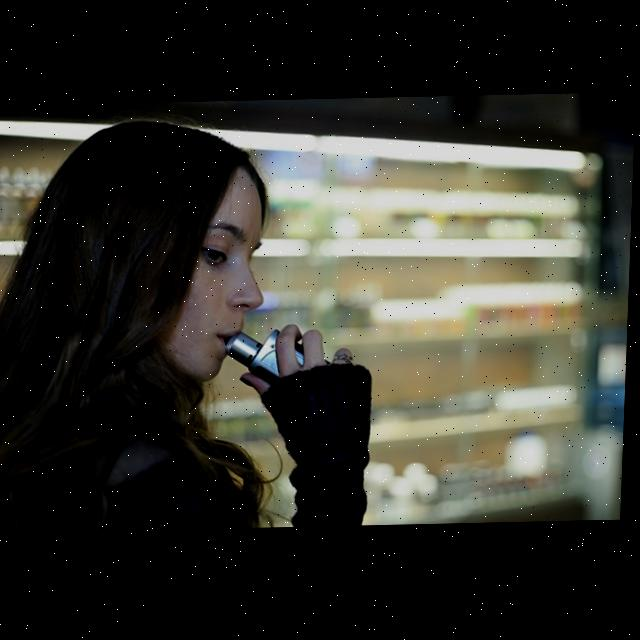vape: (227, 329, 336, 384)
